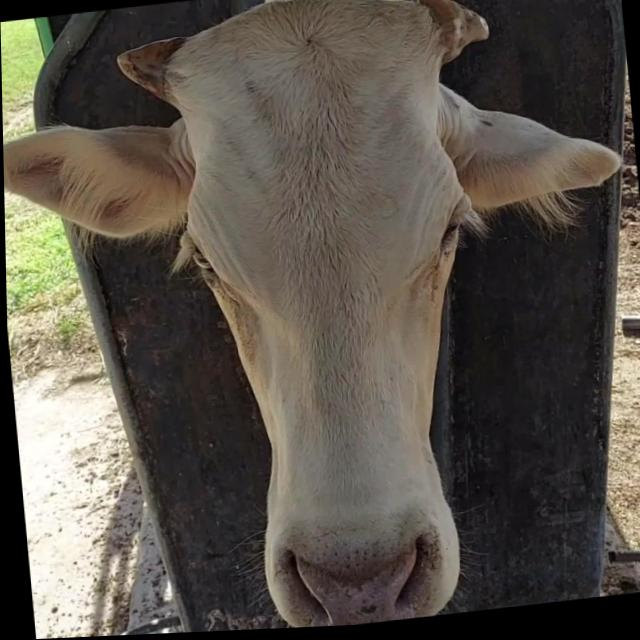cowFace: (162, 0, 496, 634)
